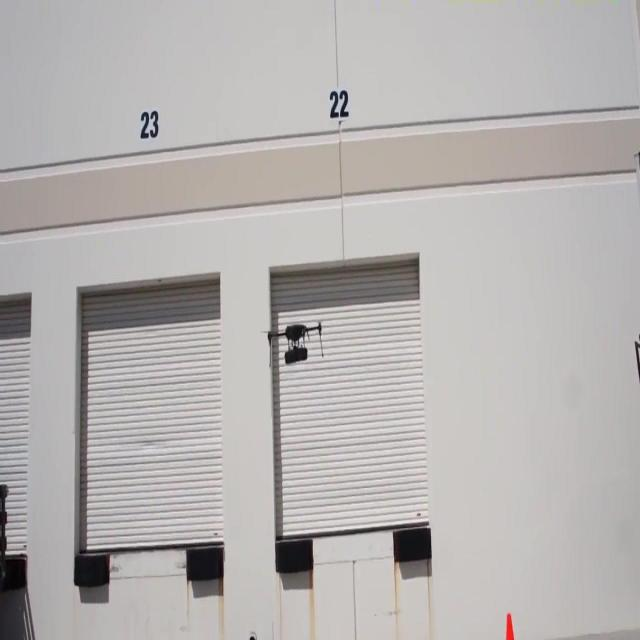UAV: (260, 318, 324, 367)
